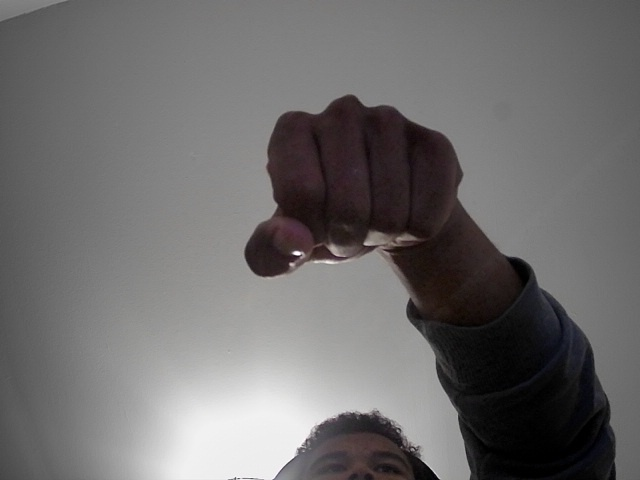Yes: (196, 73, 471, 303)
